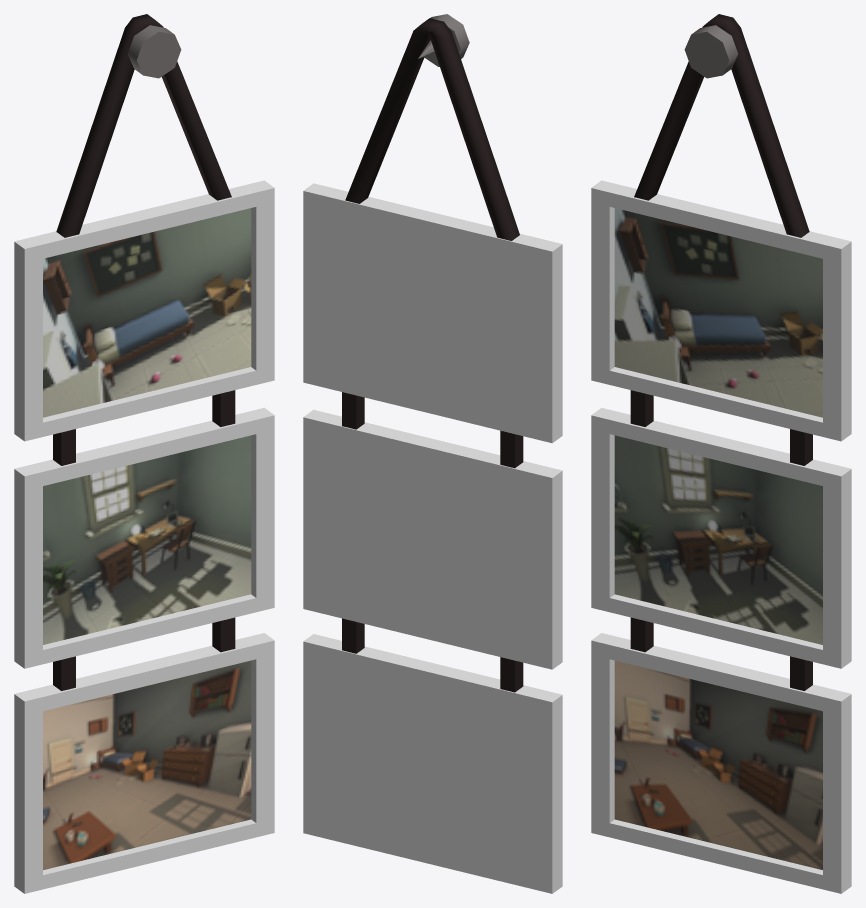
Rendered from 68_prop_frame3.FBX.
3 views of the same model, side by side, from view 1: azimuth 30°, elevation 25°; view 2: azimuth 150°, elevation 25°; view 3: azimuth 330°, elevation 25° (orthographic).
Parts seen in each view (by area): view 1: prop_frame3; view 2: prop_frame3; view 3: prop_frame3.
Boxes of the visible parts, box(x1,y1,x2,y2) form: prop_frame3: box(14, 14, 274, 893); prop_frame3: box(303, 14, 562, 893); prop_frame3: box(591, 14, 851, 893).
Bounding box in the file's own units: 24.99 × 80.21 × 5.13.
